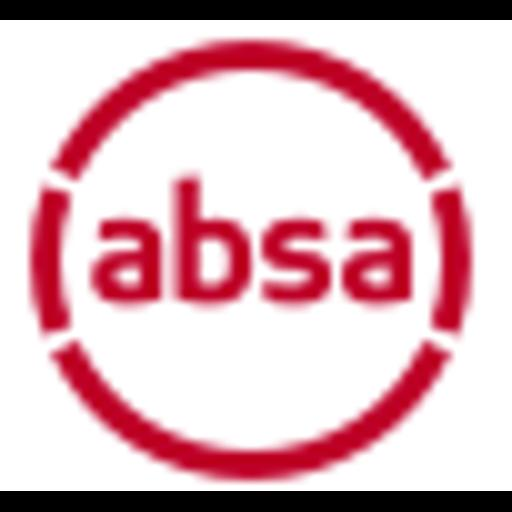Absa Group: (0, 20, 512, 491)
